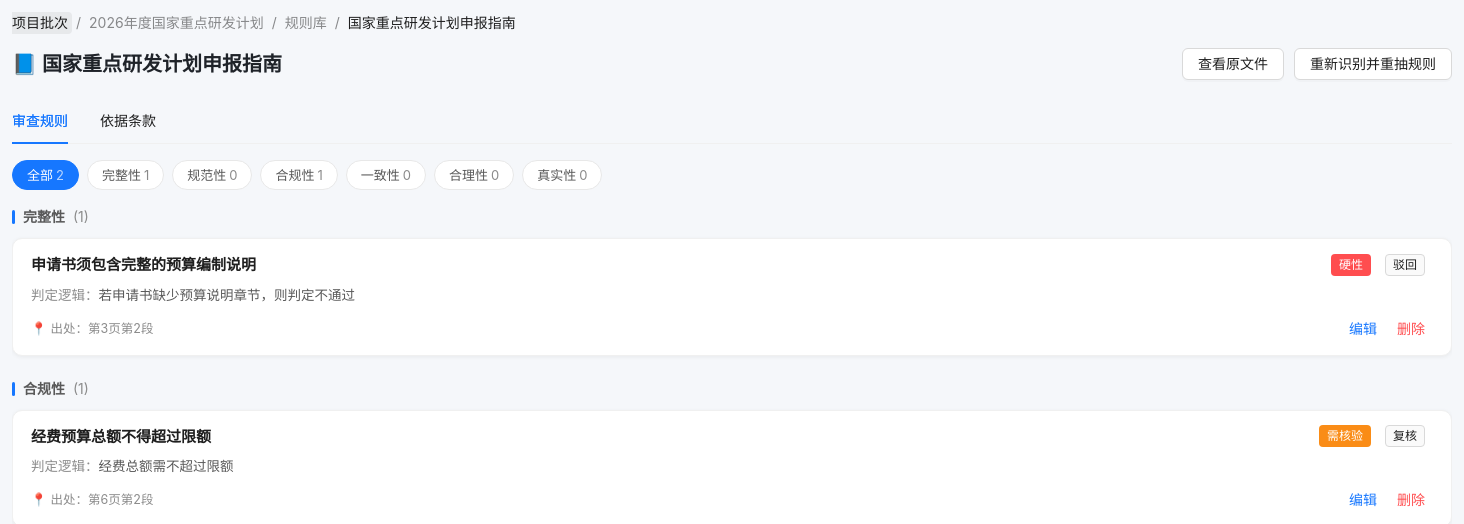
Test: 条款列表为空时显示空状态提示
Expected: the text "申请书须包含完整的预算编制说明" is shown, [31, 253, 256, 277]
What coordinates should you click on to do the following:
click the tab "依据条款"
I would click on:
 (128, 121)
Its box is [100, 110, 156, 132].
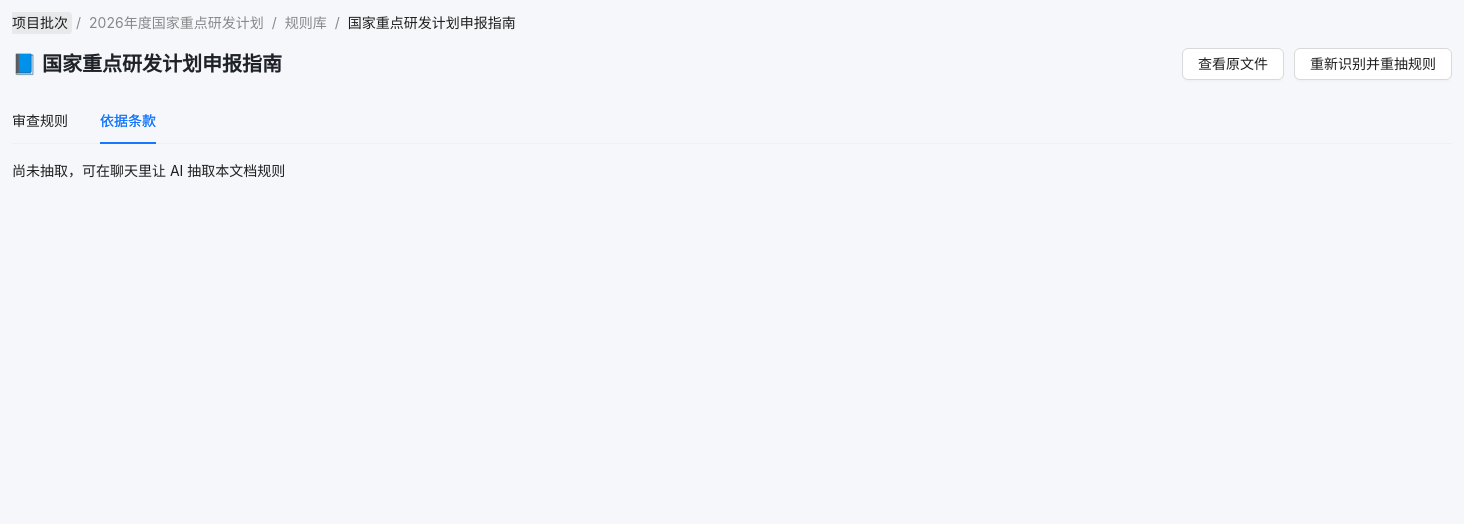
Now the text "尚未抽取，可在聊天里让 AI 抽取本文档规则" is shown, box [12, 162, 285, 179]
